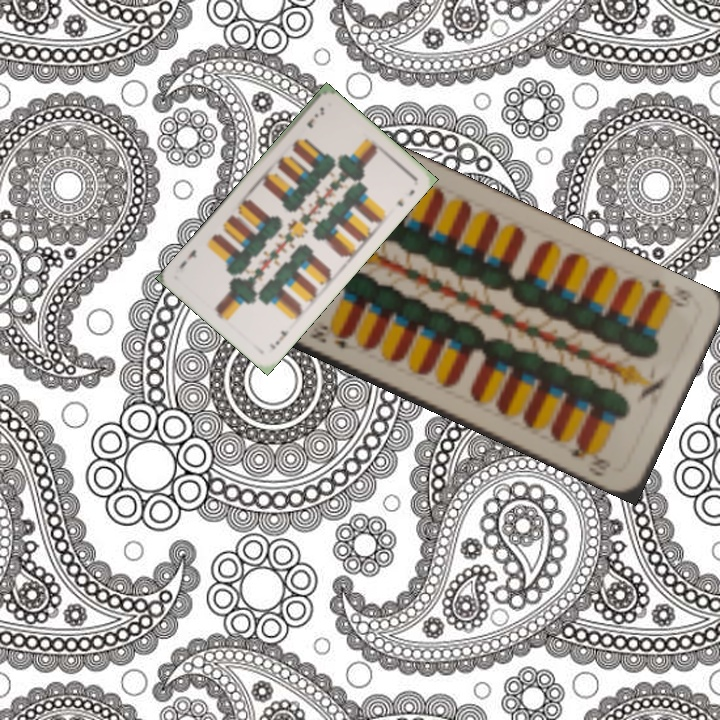E10: (643, 274, 695, 310), (305, 322, 360, 353)
E7: (265, 326, 291, 352), (303, 103, 327, 131)
